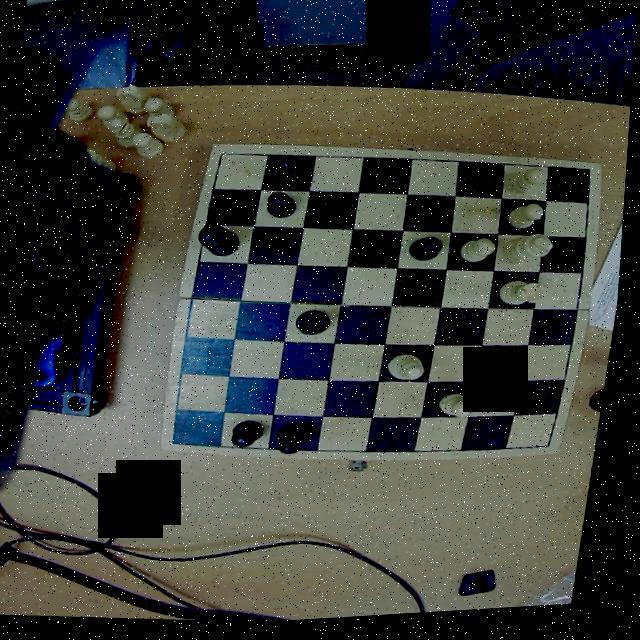chess-table-corners: (169, 428, 196, 452), (210, 146, 236, 170), (575, 168, 604, 185), (544, 438, 567, 458)
